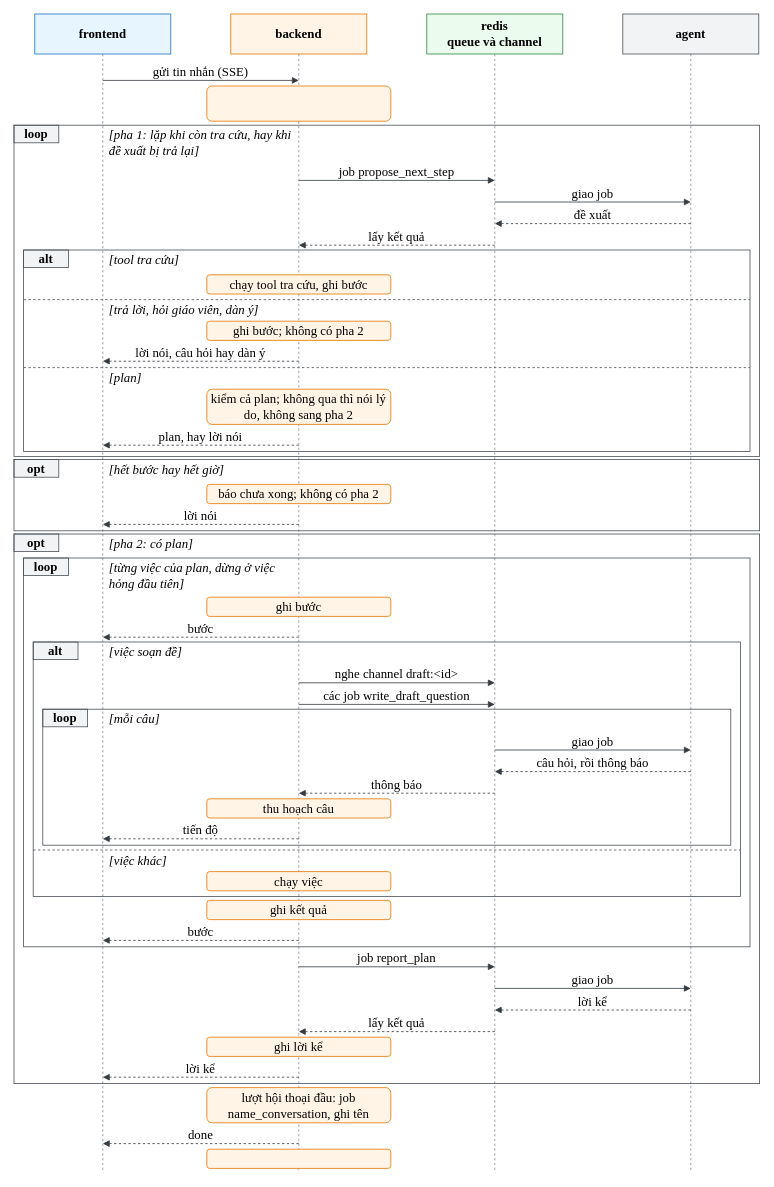
This 774x1187 diagram has some shape labels left out. Each missing label, with the centre of its shape:
khoá đoạn hội thoại (bận thì done báo lỗi), ghi tin nhắn của giáo viên: [298,103]
mở khoá đoạn hội thoại: [298,1158]
